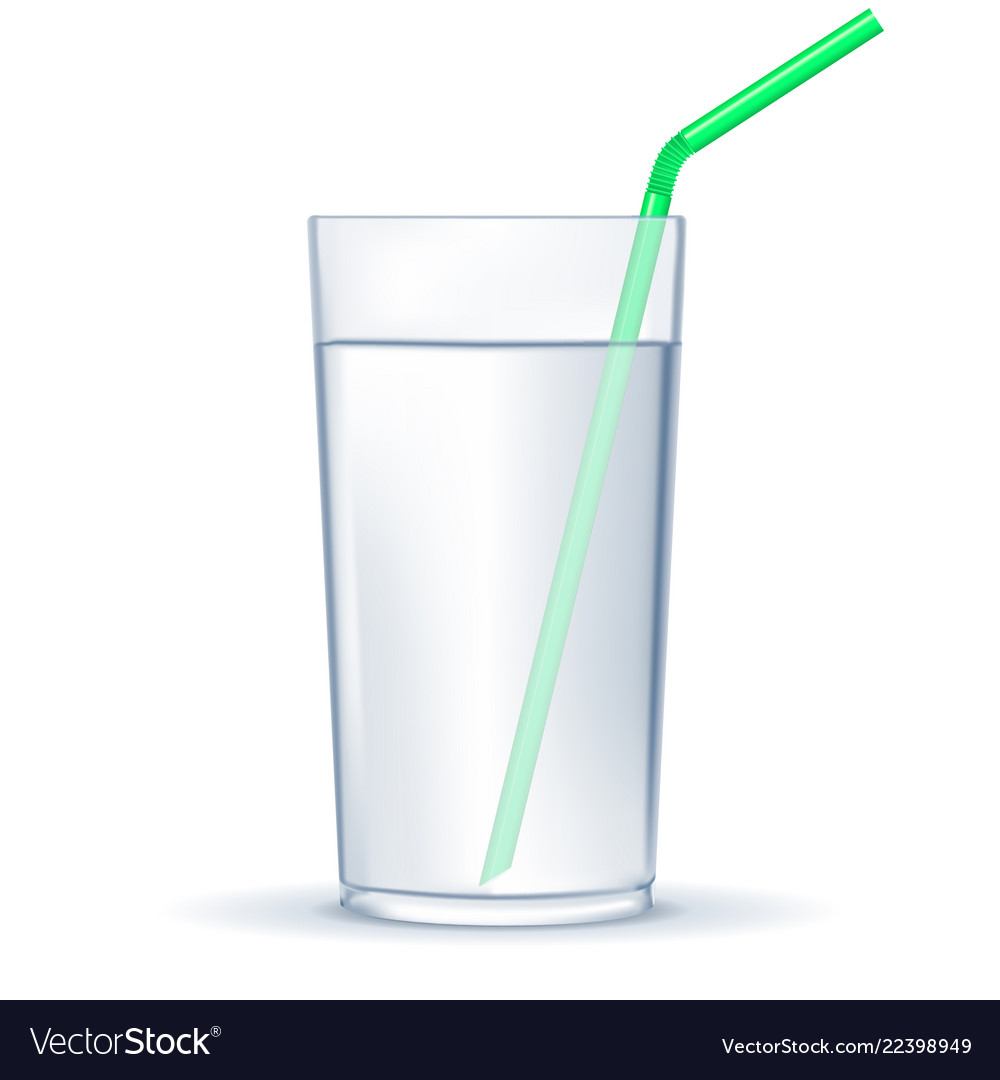Drinking Straw: (473, 5, 892, 891)
